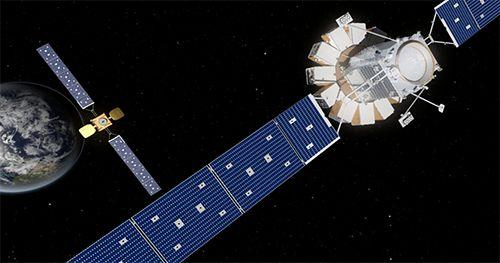antenna: (77, 124, 96, 138), (108, 107, 125, 121)
body: (346, 32, 439, 102), (89, 112, 113, 132)
solar: (66, 93, 342, 263), (36, 42, 95, 110), (108, 135, 161, 196), (433, 0, 500, 48)
thruster: (396, 40, 435, 86), (99, 118, 107, 125)
